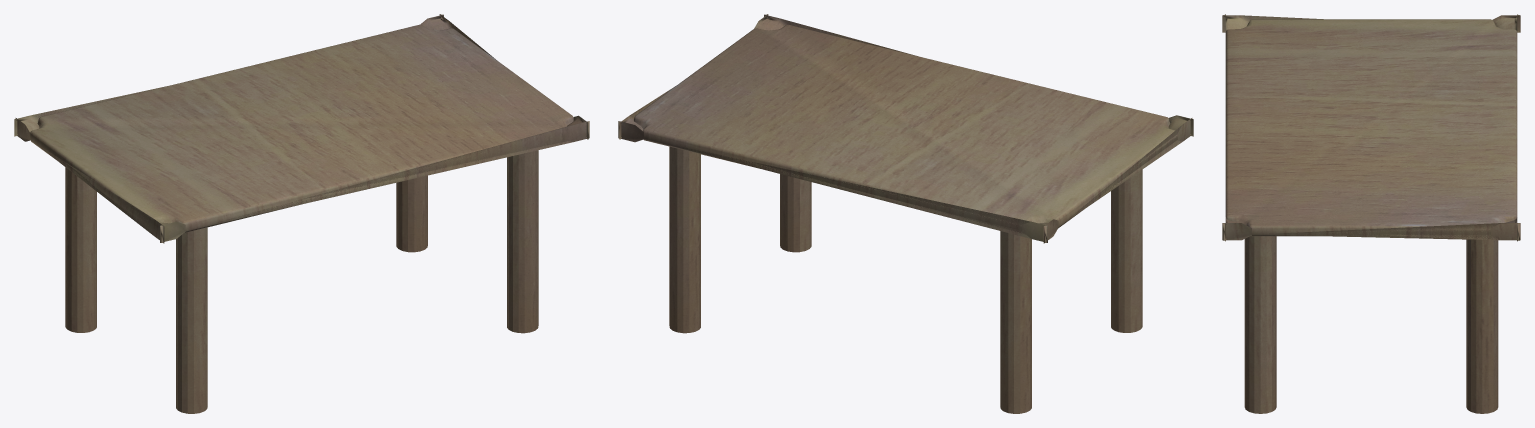
File: Antique_Table_10.fbx
3 views of the same model, side by side, from view 1: azimuth 30°, elevation 25°; view 2: azimuth 150°, elevation 25°; view 3: azimuth 270°, elevation 25° (orthographic).
Parts seen in each view (by area): view 1: Antique_Table; view 2: Antique_Table; view 3: Antique_Table.
Boxes of the visible parts, x1,y1,x2,y2 form: Antique_Table: (14, 14, 589, 413); Antique_Table: (618, 14, 1193, 413); Antique_Table: (1222, 14, 1520, 413).
Size of the model in its own units: 1.94 by 0.8924 by 1.16.
Materials: 1 (1 with a texture image).
